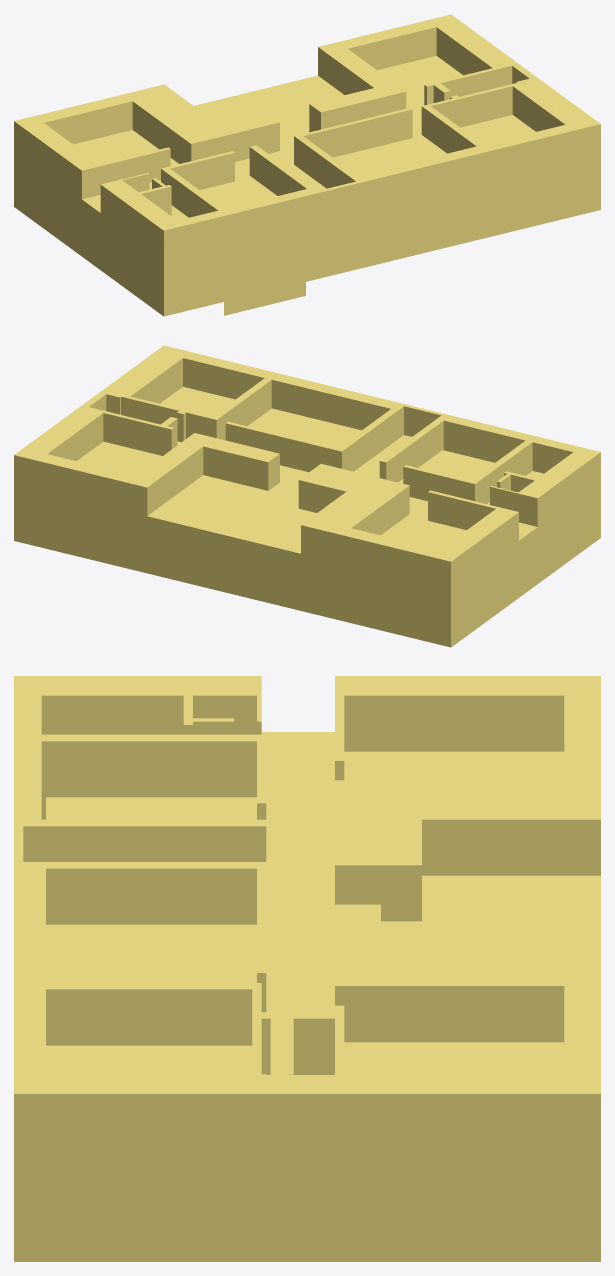
The model's file is Syue-Sih-1F-cube.glb.
3 renders of one model, top to bottom at view 1: azimuth 30°, elevation 25°; view 2: azimuth 150°, elevation 25°; view 3: azimuth 270°, elevation 25°, orthographic. The views are drawn at different scales.
Parts seen in each view (by area): view 1: Cube; view 2: Cube; view 3: Cube.
Part boxes in pixels (x1=…): Cube: x1=14, y1=14, x2=600, y2=316; Cube: x1=14, y1=345, x2=600, y2=647; Cube: x1=14, y1=676, x2=600, y2=1261.
Bounding box in the file's own units: 16 × 3.77 × 9.5.
